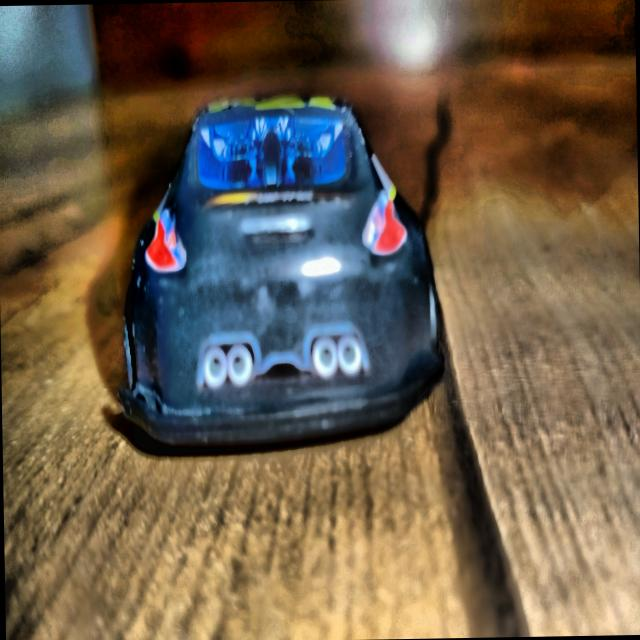Car: (114, 93, 444, 445)
